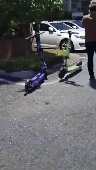beam: (22, 30, 49, 92)
gcooter: (57, 29, 85, 82)
